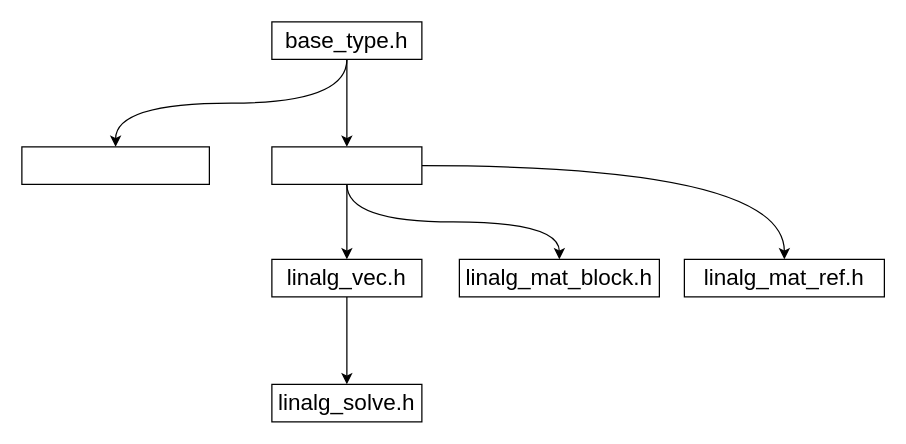
The diagram is 906 pixels wide and 444 high, and some of its shapes have lost their labels. The shapes that lost their labels are listed below. From the top down, each one's box as (x1, y1, x2, y2) in pixels, then its label:
(21, 146, 209, 184): linalg_complex.h
(271, 146, 422, 184): linalg_mat.h
